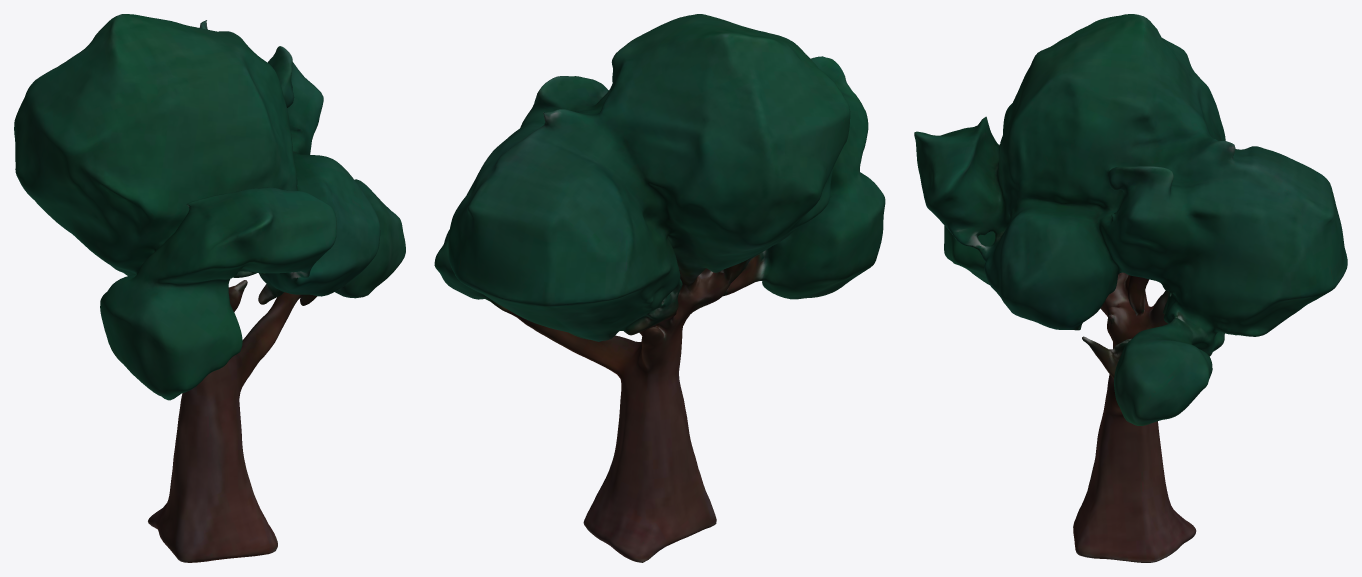
File: Tree 2601.glb
3 views of the same model, side by side, from view 1: azimuth 30°, elevation 25°; view 2: azimuth 150°, elevation 25°; view 3: azimuth 270°, elevation 25° (orthographic). The views are drawn at different scales.
Parts seen in each view (by area): view 1: world.001; view 2: world.001; view 3: world.001.
Boxes of the visible parts, bbox=[...] form: world.001: bbox=[14, 14, 405, 562]; world.001: bbox=[434, 14, 885, 562]; world.001: bbox=[914, 14, 1347, 562].
Size of the model in its own units: 2.08 by 2.81 by 2.26.
Materials: 1 (1 with a texture image).
